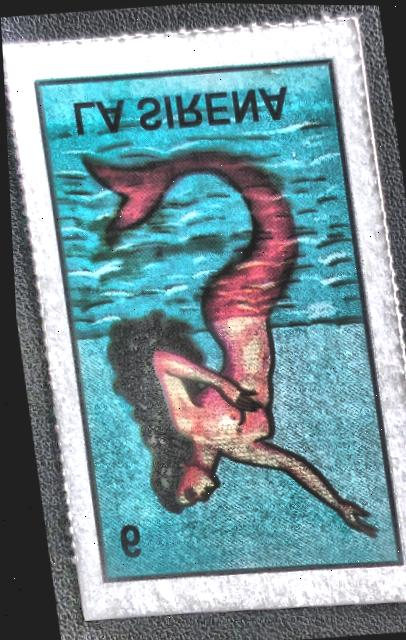La Sirena: (20, 39, 406, 599)
